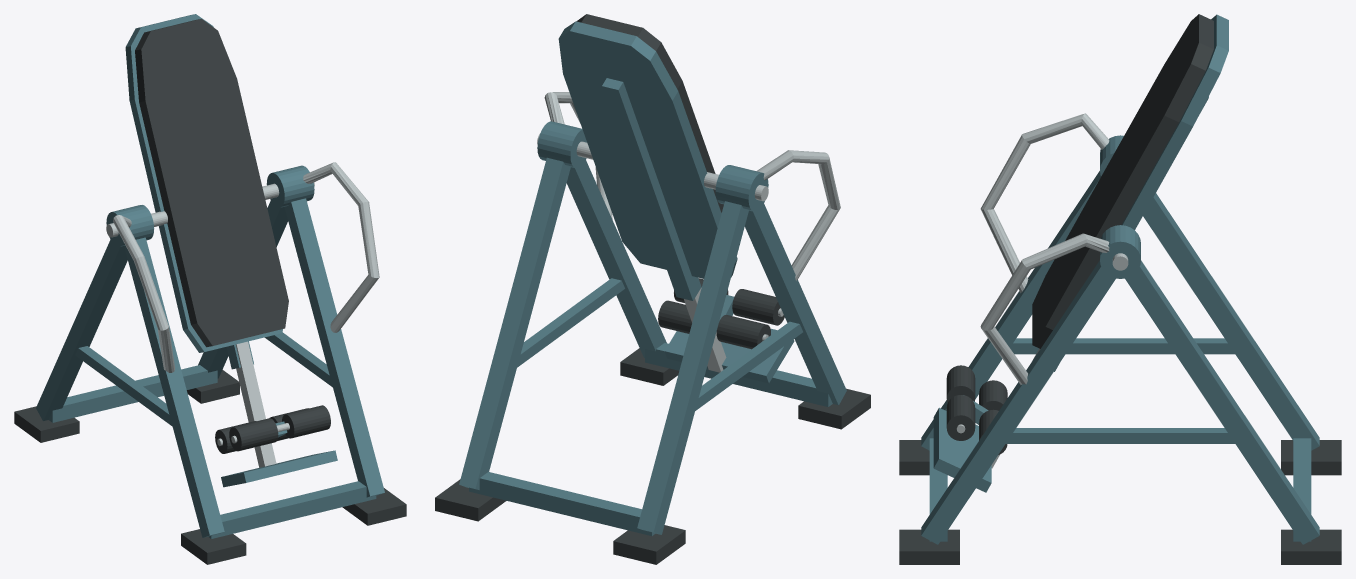
The picture shows the model from 3 angles, left to right: view 1: azimuth 30°, elevation 25°; view 2: azimuth 150°, elevation 25°; view 3: azimuth 270°, elevation 25°; orthographic projection. The views are drawn at different scales.
Visible parts, largest first — view 1: WholeContinuousUpholsteredBoard, WholeAFrameLeg_RightFront, WholeAFrameLeg_LeftFront, WholeAFrameLeg_LeftRear, WholeContinuousBackSupportShell, WholeGroundFrameCrossTie_Front, WholeGroundFrameCrossTie_Rear, WholeSideGrabRail_Right, WholeSideGrabRail_Left, WholeFixedLowerAnkleExtension, WholeSideSpreadTie_Left, WholeGroundFoot_LeftFront (+11 smaller); view 2: WholeContinuousBackSupportShell, WholeAFrameLeg_LeftRear, WholeAFrameLeg_RightRear, WholeAFrameLeg_LeftFront, WholeAFrameLeg_RightFront, WholeRearCentralBoardSpine, WholeGroundFrameCrossTie_Rear, WholeSideGrabRail_Left, WholeGroundFrameCrossTie_Front, WholeSideSpreadTie_Left, WholeSideSpreadTie_Right, WholeContinuousUpholsteredBoard (+13 smaller); view 3: WholeContinuousUpholsteredBoard, WholeAFrameLeg_RightRear, WholeAFrameLeg_RightFront, WholeAFrameLeg_LeftRear, WholeAFrameLeg_LeftFront, WholeSideSpreadTie_Right, WholeContinuousBackSupportShell, WholeSideGrabRail_Left, WholeSideGrabRail_Right, WholeSideSpreadTie_Left, WholeLowerFootRestPlate, WholeGroundFoot_RightFront (+9 smaller).
Boxes of the visible parts, x1=… form: WholeContinuousUpholsteredBoard: x1=135, y1=19, x2=288, y2=347; WholeAFrameLeg_RightFront: x1=284, y1=198, x2=384, y2=497; WholeAFrameLeg_LeftFront: x1=124, y1=237, x2=224, y2=537; WholeAFrameLeg_LeftRear: x1=36, y1=239, x2=127, y2=420; WholeContinuousBackSupportShell: x1=125, y1=14, x2=282, y2=352; WholeGroundFrameCrossTie_Front: x1=208, y1=481, x2=376, y2=538; WholeGroundFrameCrossTie_Rear: x1=48, y1=365, x2=217, y2=422; WholeSideGrabRail_Right: x1=303, y1=162, x2=379, y2=332; WholeSideGrabRail_Left: x1=113, y1=215, x2=175, y2=372; WholeFixedLowerAnkleExtension: x1=235, y1=341, x2=276, y2=467; WholeSideSpreadTie_Left: x1=75, y1=346, x2=172, y2=426; WholeGroundFoot_LeftFront: x1=181, y1=529, x2=246, y2=564; WholeContinuousBackSupportShell: x1=558, y1=21, x2=737, y2=278; WholeAFrameLeg_LeftRear: x1=637, y1=201, x2=748, y2=534; WholeAFrameLeg_RightRear: x1=459, y1=157, x2=570, y2=489; WholeAFrameLeg_LeftFront: x1=744, y1=204, x2=846, y2=405; WholeAFrameLeg_RightFront: x1=566, y1=160, x2=666, y2=357; WholeRearCentralBoardSpine: x1=602, y1=78, x2=701, y2=300; WholeGroundFrameCrossTie_Rear: x1=469, y1=472, x2=655, y2=535; WholeSideGrabRail_Left: x1=756, y1=150, x2=840, y2=280; WholeGroundFrameCrossTie_Front: x1=645, y1=343, x2=832, y2=406; WholeSideSpreadTie_Left: x1=695, y1=321, x2=802, y2=410; WholeSideSpreadTie_Right: x1=517, y1=278, x2=624, y2=367; WholeContinuousUpholsteredBoard: x1=576, y1=14, x2=723, y2=212; WholeContinuousUpholsteredBoard: x1=1032, y1=14, x2=1213, y2=348; WholeAFrameLeg_RightRear: x1=1125, y1=260, x2=1319, y2=544; WholeAFrameLeg_RightFront: x1=921, y1=260, x2=1115, y2=544; WholeAFrameLeg_LeftRear: x1=1143, y1=193, x2=1319, y2=450; WholeAFrameLeg_LeftFront: x1=921, y1=171, x2=1100, y2=450; WholeSideSpreadTie_Right: x1=1006, y1=428, x2=1234, y2=443; WholeContinuousBackSupportShell: x1=1121, y1=14, x2=1228, y2=229; WholeSideGrabRail_Left: x1=980, y1=113, x2=1109, y2=292; WholeSideGrabRail_Right: x1=980, y1=233, x2=1109, y2=384; WholeSideSpreadTie_Left: x1=1010, y1=338, x2=1234, y2=354; WholeLowerFootRestPlate: x1=933, y1=407, x2=991, y2=492; WholeGroundFoot_RightFront: x1=899, y1=529, x2=959, y2=564.
Bounding box in the file's own units: 1.02 × 1.75 × 1.46.
